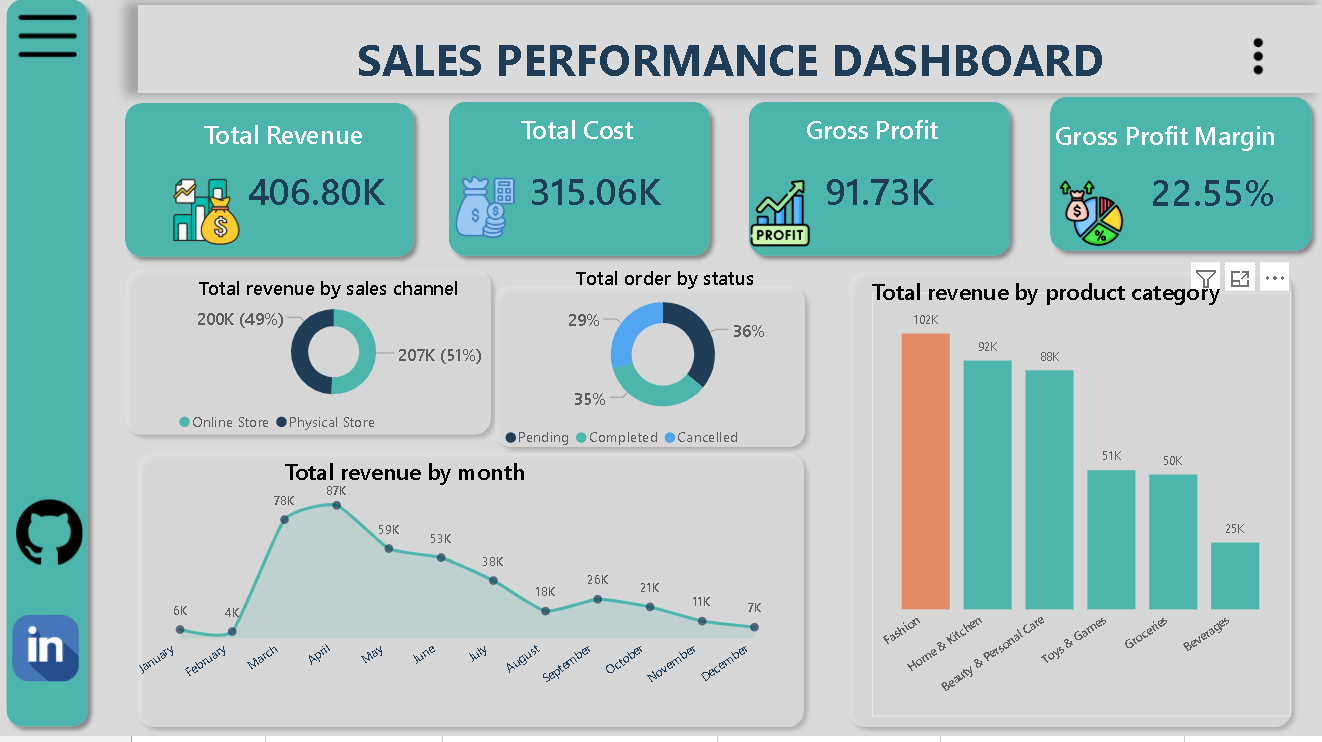

What the dashboard file says about the page in this screenshot:
{"tool":"powerbi","page":{"name":"Sales Performance","canvas":[1280,720],"ordinal":0},"visuals":[{"type":"shape","box":[813.1,263,445.2,457.2],"z":0},{"type":"actionButton","title":"githud","box":[14.8,485.7,72.4,73.6],"z":0,"group":"g1"},{"type":"shape","box":[114.2,260.7,371.1,177.5],"z":1000},{"type":"actionButton","title":"LinkIn","box":[11.2,597.9,72.4,73.6],"z":1000,"group":"g1"},{"type":"actionButton","title":"Menu","box":[16.7,3.7,64,82.1],"z":2000,"group":"g1"},{"type":"actionButton","title":"close button","box":[1195.1,98.8,54.3,59.8],"z":3000},{"type":"shape","box":[126.7,437.9,661.1,282.3],"z":4000},{"type":"shape","box":[717,98.9,270,166.5],"z":5000},{"type":"shape","box":[114.2,100.5,296.7,166.3],"z":6000},{"type":"shape","box":[426.7,98.9,270,166.5],"z":7000},{"type":"textbox","box":[439.5,94.1,241.3,63.9],"z":8000},{"type":"textbox","box":[155.6,98.9,241.3,63.9],"z":9000},{"type":"card","fields":{"Values":["Sales.Total Revenue"]},"box":[234,158,149.6,71.2],"z":10000},{"type":"image","box":[723.9,183.4,63.9,63.9],"z":11000},{"type":"lineChart","fields":{"Y":["Sales.Total Revenue"],"Category":["Dim_Date.Month Name"]},"box":[126.7,464.5,629.8,230.4],"z":12000},{"type":"donutChart","fields":{"Category":["Sales.Sales_Channel"],"Y":["Sales.Total Revenue"]},"box":[170.1,292,310,144],"z":13000},{"type":"columnChart","fields":{"Y":["Sales.Total Revenue"],"Category":["Product_Categories.Category_Name"]},"box":[844.5,292,404.2,409],"z":14000},{"type":"textbox","box":[136.3,13.9,1143.7,84.9],"z":15000},{"type":"shape","title":"Container","box":[0,0,96.8,719.9],"z":16000},{"type":"card","fields":{"Values":["Sales.Total Cost"]},"box":[503.1,158,149.6,71.2],"z":17000},{"type":"image","box":[439.1,177.3,63.9,63.9],"z":18000},{"type":"image","box":[170.1,182.2,63.9,63.9],"z":19000},{"type":"shape","box":[1007.4,94.1,270,166.5],"z":20000},{"type":"card","fields":{"Values":["Sales.Gross Profit"]},"box":[776.9,158,149.6,71.2],"z":21000},{"type":"textbox","box":[723.5,94.1,241.3,63.9],"z":22000},{"type":"card","fields":{"Values":["Sales.Gross Profit Margin"]},"box":[1099.1,159.3,149.6,71.2],"z":23000},{"type":"textbox","box":[1007.4,100.1,241.3,63.9],"z":24000},{"type":"image","box":[1024.3,183.4,63.9,63.9],"z":25000},{"type":"textbox","box":[148.4,425.9,491,60.3],"z":26000},{"type":"textbox","box":[178.6,250.9,283.5,60.3],"z":27000},{"type":"textbox","box":[767.3,252.1,491,60.3],"z":28000},{"type":"shape","box":[471.7,276.9,317.2,173.9],"z":29000},{"type":"textbox","box":[503.1,241.3,283.5,60.3],"z":30000},{"type":"donutChart","fields":{"Y":["Purchase_Order.Total Orders"],"Category":["Purchase_Order.Order_Status"]},"box":[485.6,282.4,315.8,168.3],"z":31000},{"type":"group","id":"g1","title":"Menu bar","box":[11.2,3.7,75.7,667.8],"z":32000},{"type":"actionButton","title":"filter menu","box":[1187.1,33.8,61.5,60.3],"z":34000}]}

Visuals, with their boxes in screenshot pixels (x1, y1, x2, y2), scaled from the page's 1280x720 canvas onto the 1322x742 screenshot:
shape: {"left": 840, "top": 271, "right": 1300, "bottom": 741}
"githud" actionButton: {"left": 15, "top": 501, "right": 90, "bottom": 576}
shape: {"left": 118, "top": 269, "right": 501, "bottom": 452}
"LinkIn" actionButton: {"left": 12, "top": 616, "right": 86, "bottom": 692}
"Menu" actionButton: {"left": 17, "top": 4, "right": 83, "bottom": 88}
"close button" actionButton: {"left": 1234, "top": 102, "right": 1290, "bottom": 163}
shape: {"left": 131, "top": 451, "right": 814, "bottom": 741}
shape: {"left": 741, "top": 102, "right": 1019, "bottom": 274}
shape: {"left": 118, "top": 104, "right": 424, "bottom": 275}
shape: {"left": 441, "top": 102, "right": 720, "bottom": 274}
textbox: {"left": 454, "top": 97, "right": 703, "bottom": 163}
textbox: {"left": 161, "top": 102, "right": 410, "bottom": 168}
card - Sales.Total Revenue: {"left": 242, "top": 163, "right": 396, "bottom": 236}
image: {"left": 748, "top": 189, "right": 814, "bottom": 255}
lineChart - Sales.Total Revenue x Dim_Date.Month Name: {"left": 131, "top": 479, "right": 781, "bottom": 716}
donutChart - Sales.Sales_Channel x Sales.Total Revenue: {"left": 176, "top": 301, "right": 496, "bottom": 449}
columnChart - Sales.Total Revenue x Product_Categories.Category_Name: {"left": 872, "top": 301, "right": 1290, "bottom": 722}
textbox: {"left": 141, "top": 14, "right": 1321, "bottom": 102}
"Container" shape: {"left": 0, "top": 0, "right": 100, "bottom": 741}
card - Sales.Total Cost: {"left": 520, "top": 163, "right": 674, "bottom": 236}
image: {"left": 454, "top": 183, "right": 520, "bottom": 249}
image: {"left": 176, "top": 188, "right": 242, "bottom": 254}
shape: {"left": 1040, "top": 97, "right": 1319, "bottom": 269}
card - Sales.Gross Profit: {"left": 802, "top": 163, "right": 957, "bottom": 236}
textbox: {"left": 747, "top": 97, "right": 996, "bottom": 163}
card - Sales.Gross Profit Margin: {"left": 1135, "top": 164, "right": 1290, "bottom": 238}
textbox: {"left": 1040, "top": 103, "right": 1290, "bottom": 169}
image: {"left": 1058, "top": 189, "right": 1124, "bottom": 255}
textbox: {"left": 153, "top": 439, "right": 660, "bottom": 501}
textbox: {"left": 184, "top": 259, "right": 477, "bottom": 321}
textbox: {"left": 792, "top": 260, "right": 1300, "bottom": 322}
shape: {"left": 487, "top": 285, "right": 815, "bottom": 465}
textbox: {"left": 520, "top": 249, "right": 812, "bottom": 311}
donutChart - Purchase_Order.Total Orders x Purchase_Order.Order_Status: {"left": 502, "top": 291, "right": 828, "bottom": 464}
"Menu bar" group: {"left": 12, "top": 4, "right": 90, "bottom": 692}
"filter menu" actionButton: {"left": 1226, "top": 35, "right": 1290, "bottom": 97}
